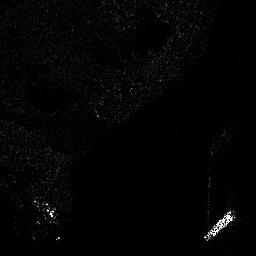ship: (202, 207, 236, 241)
